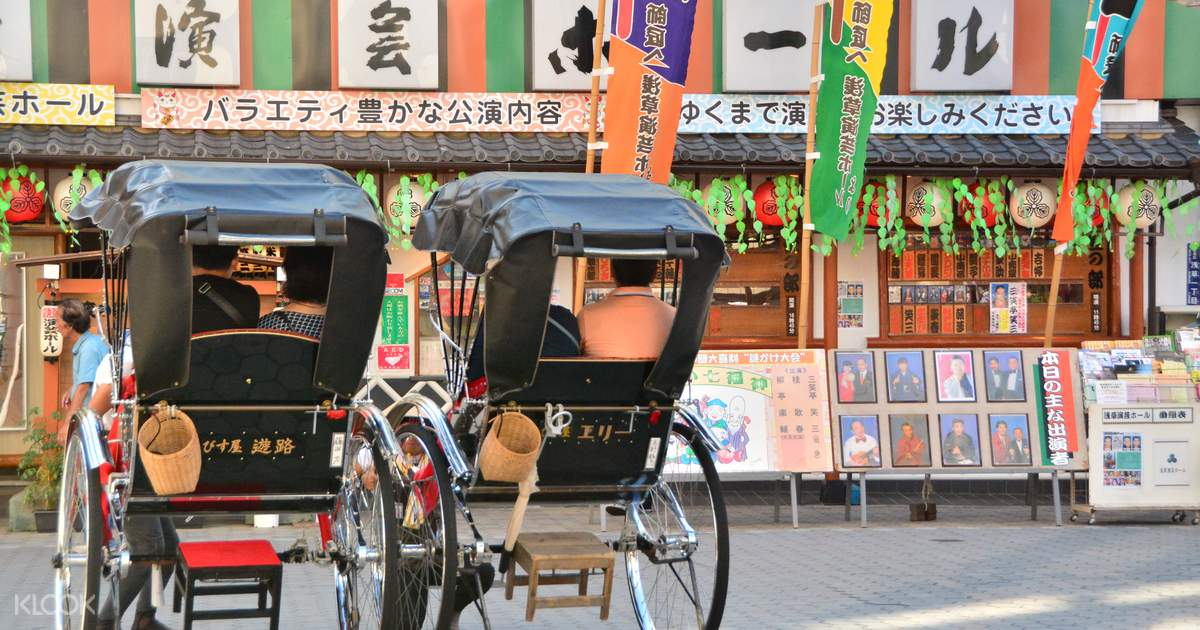Rickshaw: (42, 133, 444, 626), (375, 167, 727, 620)
